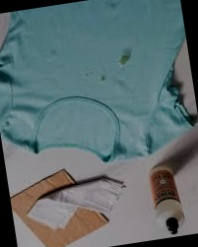oil: (116, 50, 134, 69), (97, 76, 109, 86), (83, 69, 96, 77)
